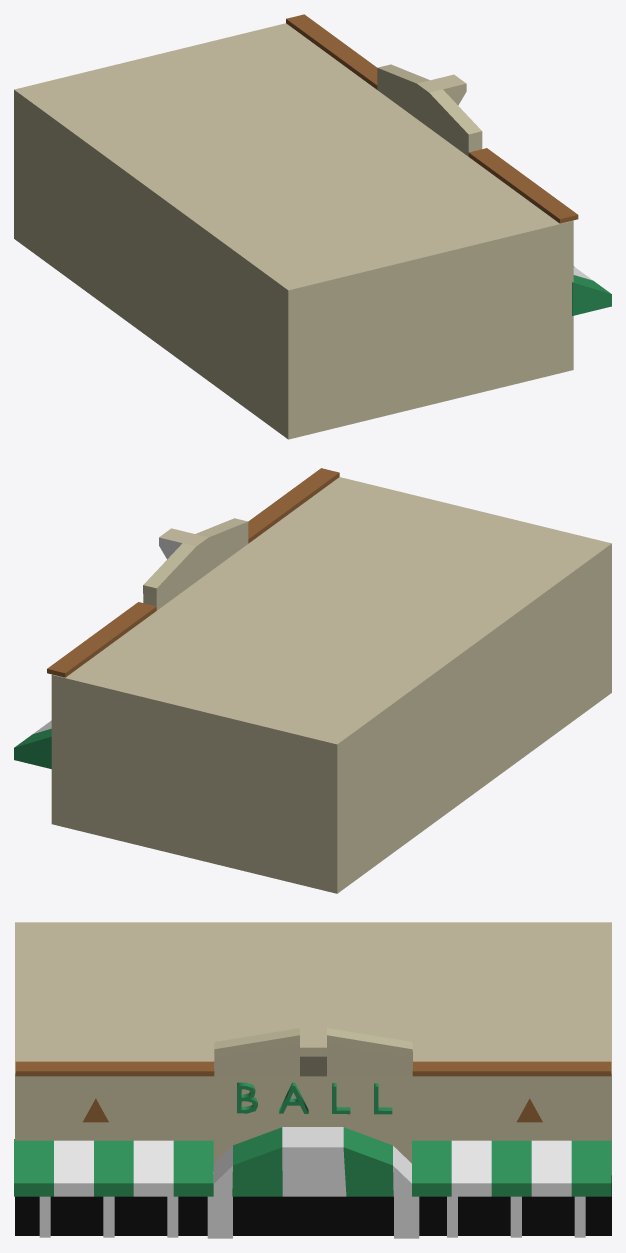
The model's file is ball 1.fbx.
3 views of the same model, one above another, from view 1: azimuth 30°, elevation 25°; view 2: azimuth 150°, elevation 25°; view 3: azimuth 270°, elevation 25° (orthographic). The views are drawn at different scales.
Parts seen in each view (by area): view 1: Cube; view 2: Cube; view 3: Cube, Text.
Boxes of the visible parts, x1,y1,x2,y2 form: Cube: [14, 14, 611, 439]; Cube: [14, 468, 611, 893]; Cube: [14, 922, 611, 1238]; Text: [237, 1082, 392, 1114].
Size of the model in its own units: 4740 by 2601 by 6984.
